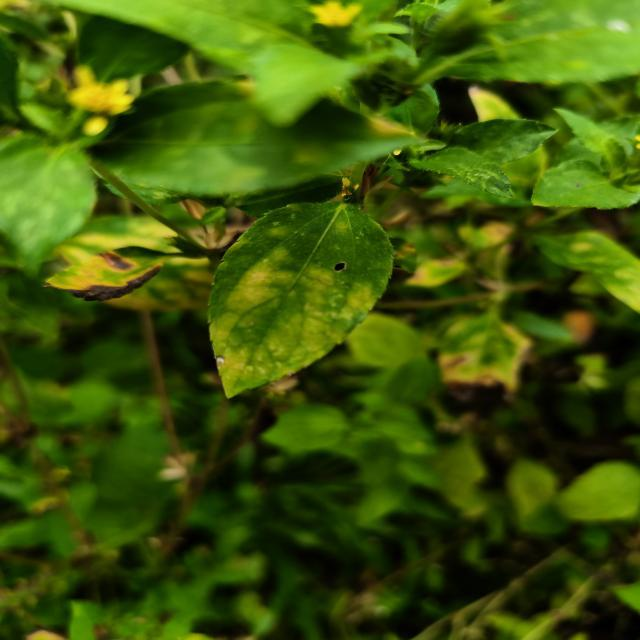Virus Kuning: (89, 78, 446, 206), (207, 198, 396, 400)
